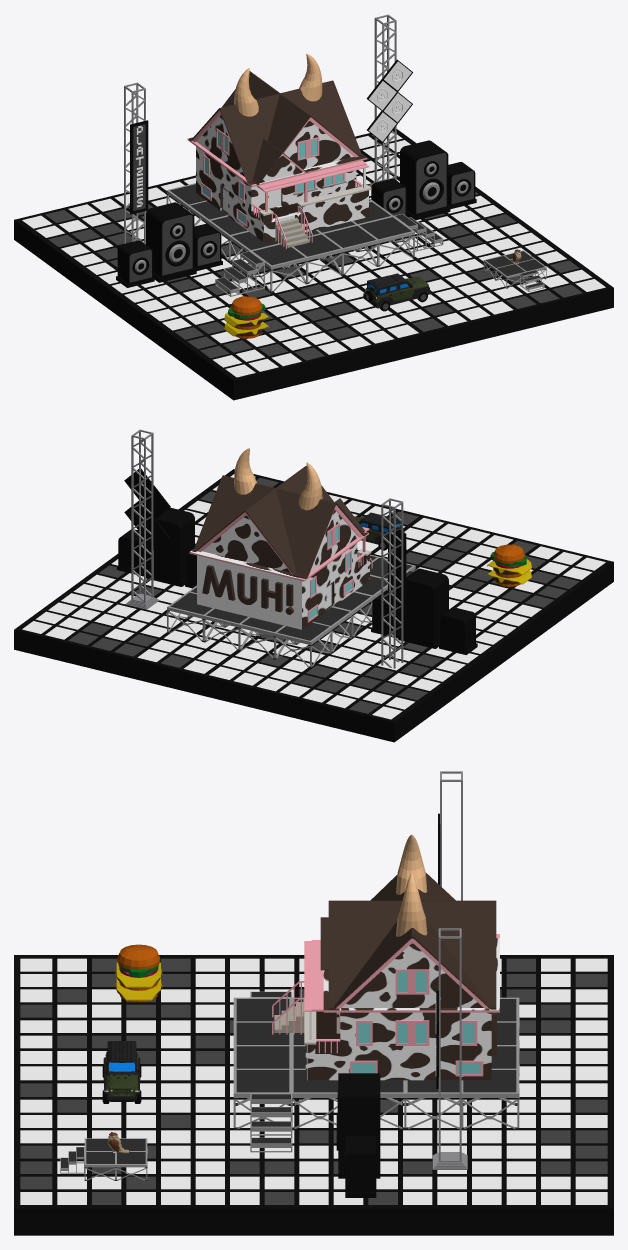
3 renders of one model, top to bottom at view 1: azimuth 30°, elevation 25°; view 2: azimuth 150°, elevation 25°; view 3: azimuth 270°, elevation 25°, orthographic. The views are drawn at different scales.
Visible parts, largest first — view 1: Cube.008, Cube.1242, VEHICLES_JEEP, OBJRANDOM_HAMBURGER; view 2: Cube.008, Cube.1242, OBJRANDOM_HAMBURGER, VEHICLES_JEEP; view 3: Cube.008, Cube.1242, OBJRANDOM_HAMBURGER, VEHICLES_JEEP.
Boxes of the visible parts, bbox=[...] form: Cube.008: bbox=[14, 14, 613, 400]; Cube.1242: bbox=[187, 54, 371, 248]; VEHICLES_JEEP: bbox=[363, 273, 430, 311]; OBJRANDOM_HAMBURGER: bbox=[224, 296, 269, 338]; Cube.008: bbox=[14, 429, 613, 742]; Cube.1242: bbox=[189, 448, 372, 629]; OBJRANDOM_HAMBURGER: bbox=[487, 544, 531, 586]; VEHICLES_JEEP: bbox=[354, 512, 404, 550]; Cube.008: bbox=[14, 771, 613, 1235]; Cube.1242: bbox=[272, 834, 499, 1080]; OBJRANDOM_HAMBURGER: bbox=[115, 944, 162, 1002]; VEHICLES_JEEP: bbox=[102, 1041, 141, 1103].
Bounding box in the file's own units: 4000 × 1972 × 4000.
48 materials, 1 textured.
